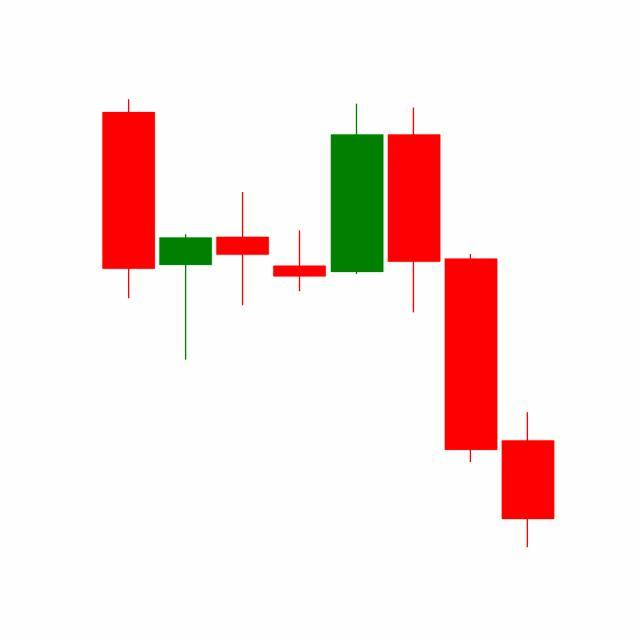Hikkake Pattern: (214, 100, 501, 467)
